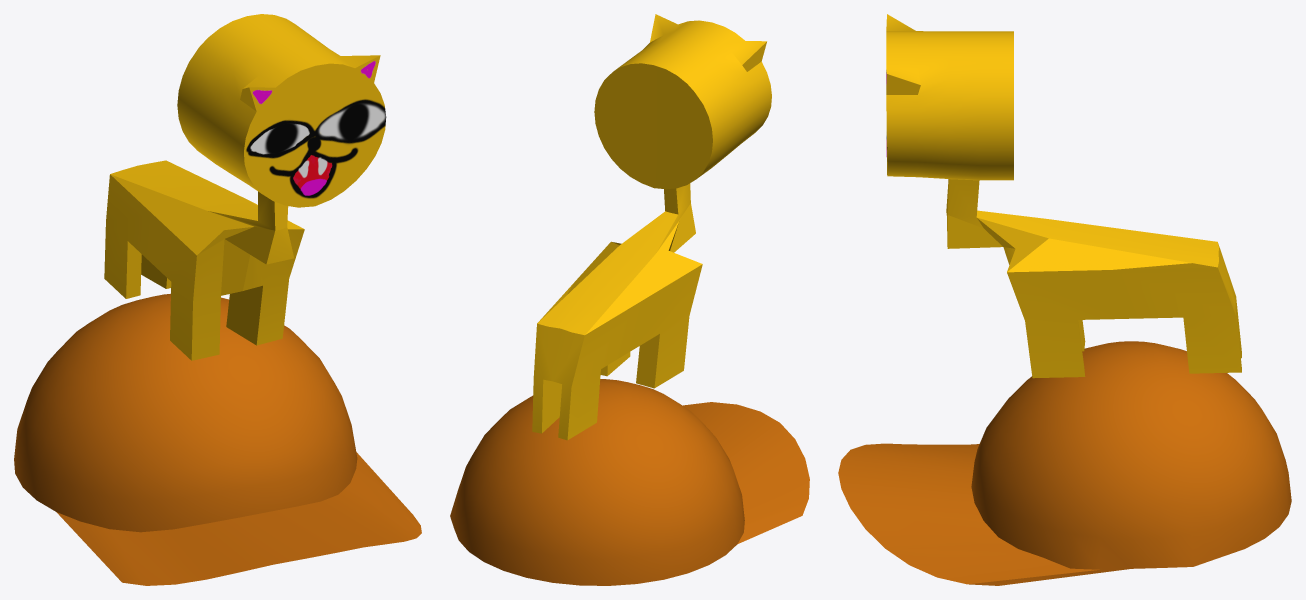
File: bousi.fbx
3 renders of one model, left to right at view 1: azimuth 30°, elevation 25°; view 2: azimuth 150°, elevation 25°; view 3: azimuth 270°, elevation 25°, orthographic. The views are drawn at different scales.
Visible parts, largest first — view 1: 球, 円; view 2: 球, 円; view 3: 球, 円.
Boxes of the visible parts, left/top/right/bottom form: 球: left=14, top=293, right=421, bottom=585; 円: left=104, top=14, right=386, bottom=360; 球: left=450, top=379, right=809, bottom=585; 円: left=532, top=14, right=771, bottom=440; 球: left=838, top=341, right=1291, bottom=585; 円: left=886, top=14, right=1241, bottom=378.
Size of the model in its own units: 202 by 332 by 283.
Materials: 2 (2 with a texture image).
